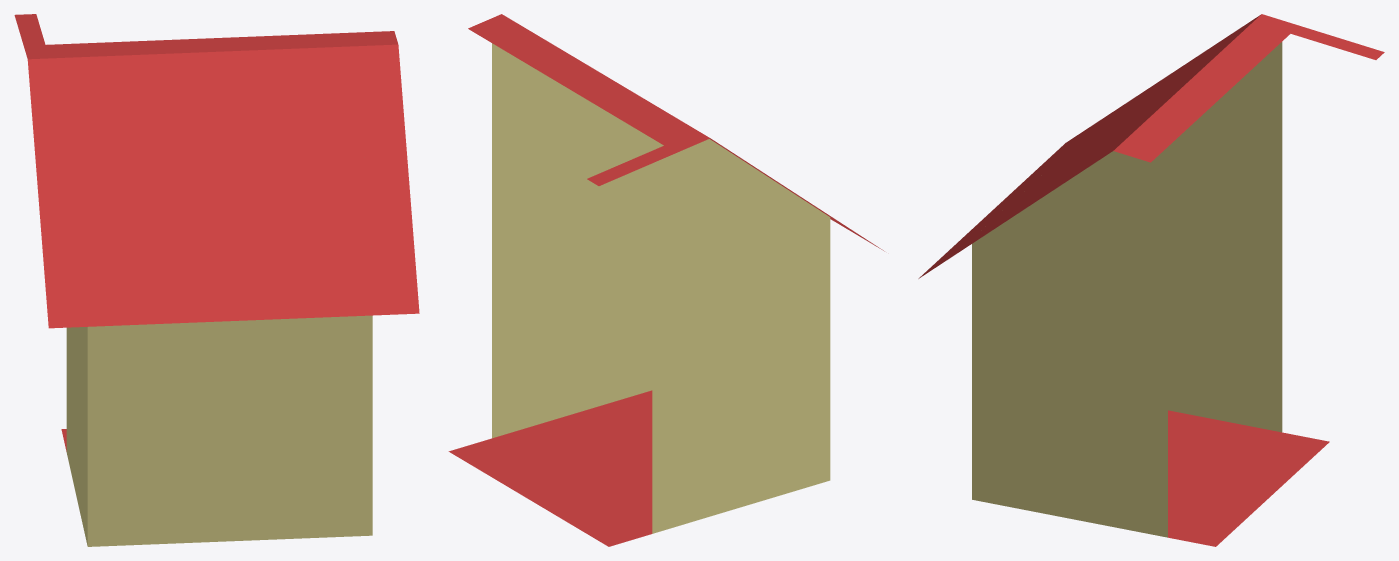
3 renders of one model, left to right at view 1: azimuth 30°, elevation 25°; view 2: azimuth 150°, elevation 25°; view 3: azimuth 270°, elevation 25°, orthographic. The views are drawn at different scales.
Size of the model in its own units: 10.43 by 11.31 by 10.54.
